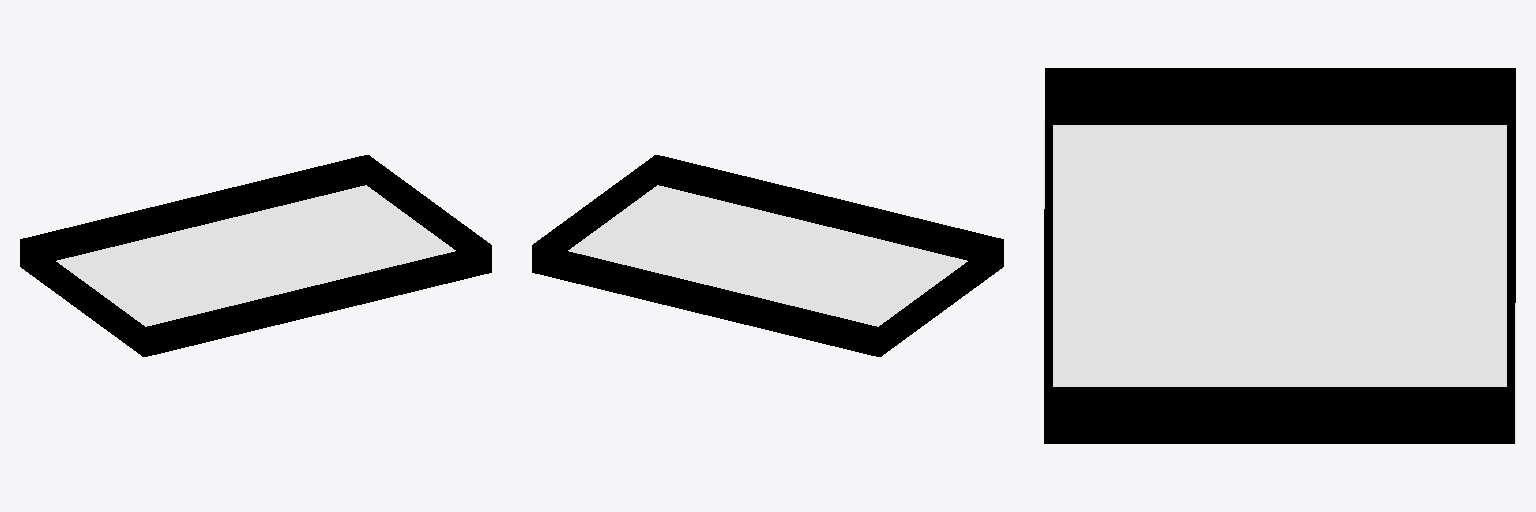
URDF robot description (arena):
<?xml version="1.0"?>
<robot name="arena">

  <material name="black">
    <color rgba="0 0 0 1" />
  </material>
  <material name="white">
    <color rgba="1 1 1 1" />
  </material>

  <link name="base_link">
    <contact>
      <lateral_friction value="1" />
    </contact>
    <inertial>
      <origin rpy="0 0 0" xyz="0 0 0" />
      <mass value=".0" />
      <inertia ixx="0" ixy="0" ixz="0" iyy="0" iyz="0" izz="0" />
    </inertial>
    <visual>
      <origin rpy="0 0 0" xyz="0 0 0" />
      <geometry>
        <mesh filename="arena_base.obj" scale=".001 .001 .001" />
      </geometry>
      <material name="white" />
    </visual>
    <collision name="ground">
      <origin rpy="0 0 0" xyz="0 0 0" />
      <geometry>
        <plane normal="0 0 1" />
      </geometry>
    </collision>
  </link>

  <joint name="connection_joint" type="fixed">
    <axis rpy="0 0 0" xyz="0 0 0" />
    <parent link="base_link" />
    <child link="wall_link" />
    <origin rpy="0 0 1.57075" xyz="0 0 0.1" />
  </joint>

  <link name="wall_link">
    <contact>
      <lateral_friction value="1" />
    </contact>
    <inertial>
      <origin rpy="0 0 0" xyz="0 0 0" />
      <mass value=".0" />
      <inertia ixx="0" ixy="0" ixz="0" iyy="0" iyz="0" izz="0" />
    </inertial>
    <visual>
      <origin rpy="1.57075 0 0" xyz="0 0 -.1" />
      <geometry>
        <mesh filename="arena_walls.obj" scale=".001 .001 .001" />
      </geometry>
      <material name="black" />
    </visual>
    <collision name="wall1">
      <origin rpy="1.57075 0 0" xyz="0 0.635 0" />
      <geometry>
        <plane normal="0 0 1" />
      </geometry>
    </collision>
    <collision name="wall2">
      <origin rpy="0 0 0" xyz="0 -0.635 0" />
      <geometry>
        <plane normal="0 1 0" />
      </geometry>
    </collision>
    <collision name="wall3">
      <origin rpy="0 0 0" xyz="-.385 0 0" />
      <geometry>
        <plane normal="1 0 0" />
      </geometry>
    </collision>
    <collision name="wall4">
      <origin rpy="0 0 1.57075" xyz=".385 0 0" />
      <geometry>
        <plane normal="0 1 0" />
      </geometry>
    </collision>
  </link>
</robot>

--- Render facts (derived) ---
Views: 3 orthographic renders of the robot side by side, from view 1: azimuth 30°, elevation 25°; view 2: azimuth 150°, elevation 25°; view 3: azimuth 270°, elevation 25°.
Model arena with 2 links and 1 joints (1 fixed), rooted at base_link, posed all joints at 0.
Links seen in each view (by area): view 1: wall_link, base_link; view 2: wall_link, base_link; view 3: base_link, wall_link.
Boxes of the visible links, x1,y1,x2,y2 form: wall_link: [20, 155, 491, 356]; base_link: [56, 185, 455, 355]; wall_link: [532, 155, 1003, 356]; base_link: [568, 185, 967, 326]; base_link: [1044, 121, 1515, 443]; wall_link: [1044, 68, 1515, 443].
Size in the robot's own frame: 1.3 by 0.8001 by 0.1001 metres.
2 mesh visuals loaded from 2 distinct referenced files (2 OBJ).